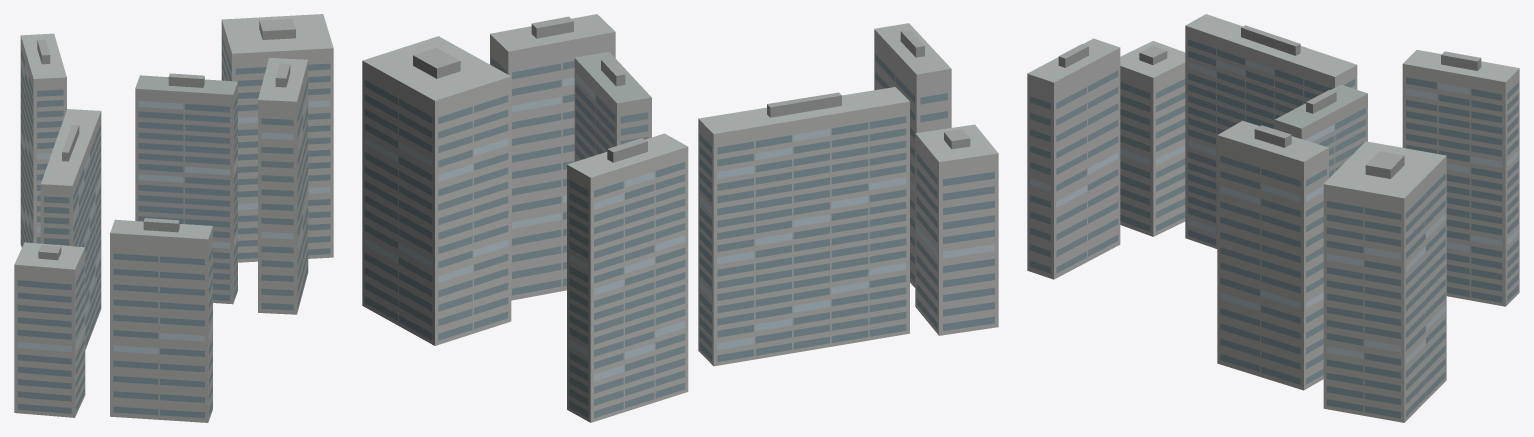
The model's file is apt-a10023543.glb.
3 views of the same model, side by side, from view 1: azimuth 30°, elevation 25°; view 2: azimuth 150°, elevation 25°; view 3: azimuth 270°, elevation 25° (orthographic). The views are drawn at different scales.
Visible parts, largest first — view 1: apt-a10023543; view 2: apt-a10023543; view 3: apt-a10023543.
Boxes of the visible parts, x1,y1,x2,y2 form: apt-a10023543: [14, 14, 333, 422]; apt-a10023543: [362, 14, 998, 422]; apt-a10023543: [1027, 14, 1519, 422].
Size of the model in its own units: 121 by 60 by 113.
